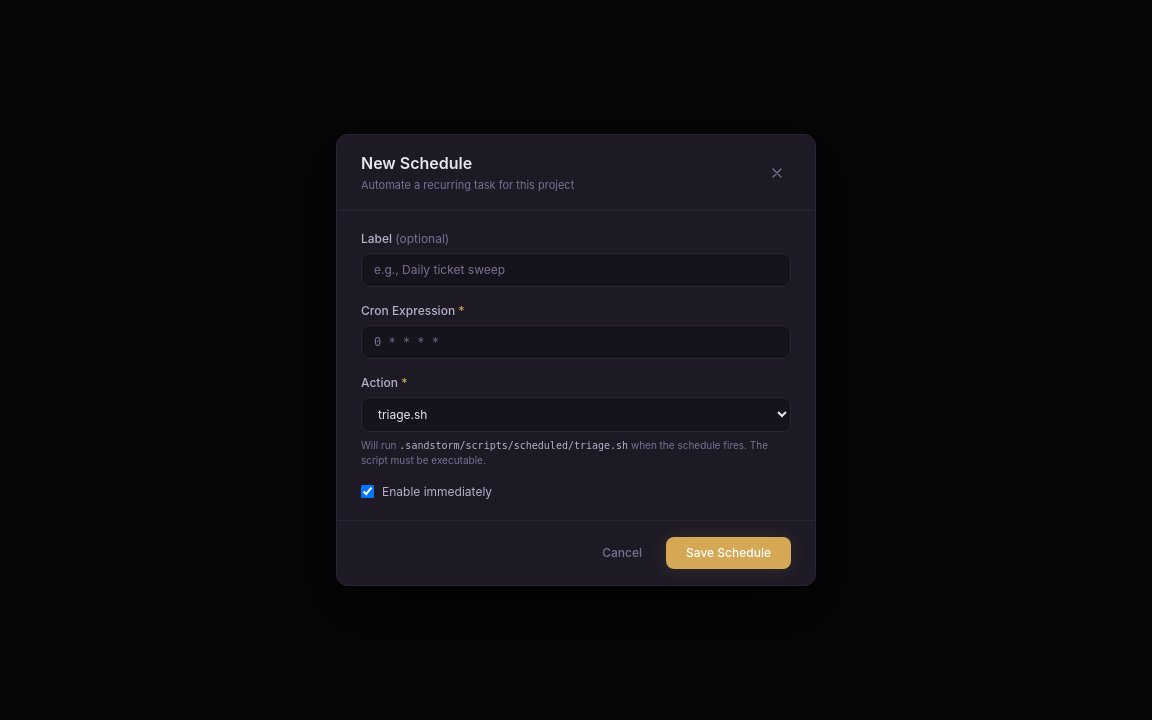
Test: NewScheduleModal › shows validation error when cron is missing
The image size is (1152, 720).
Check: the element with test id "run-script-config" is shown, box [361, 438, 791, 468]
What coordinates should you click on to do the following:
click the button with test id "new-schedule-save-btn"
I would click on:
 (728, 553)
Its box is [666, 537, 791, 569].
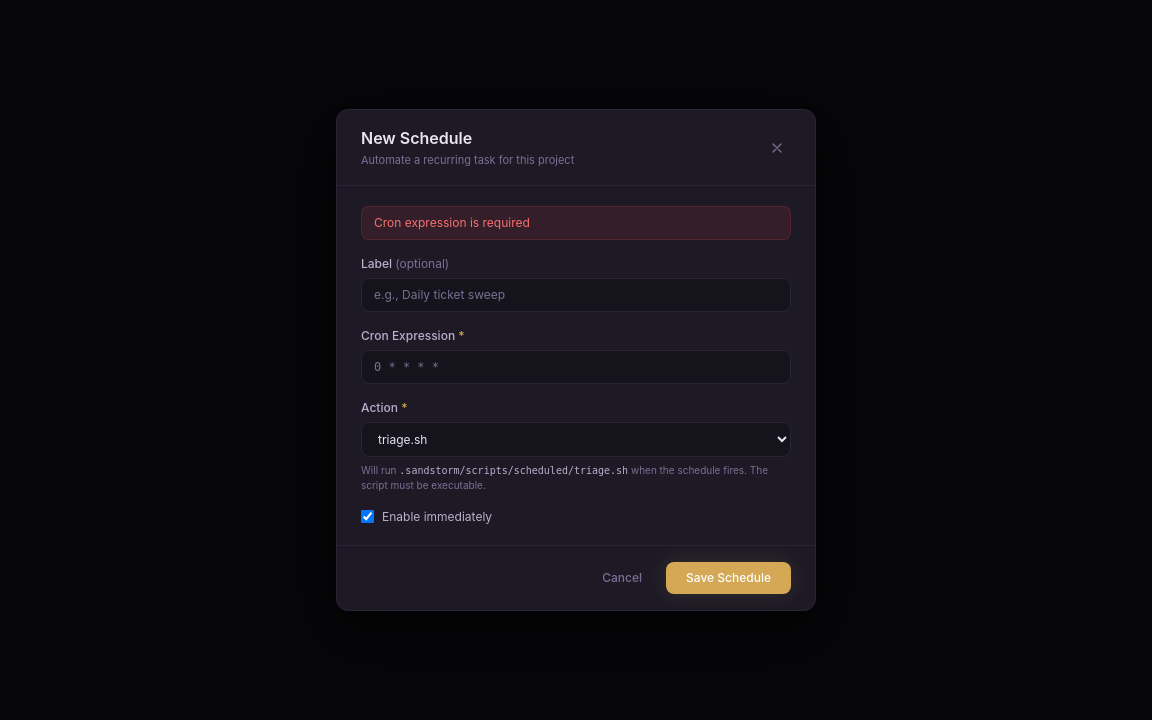
Check: the text "Cron expression is required" is shown, box [361, 206, 791, 240]
